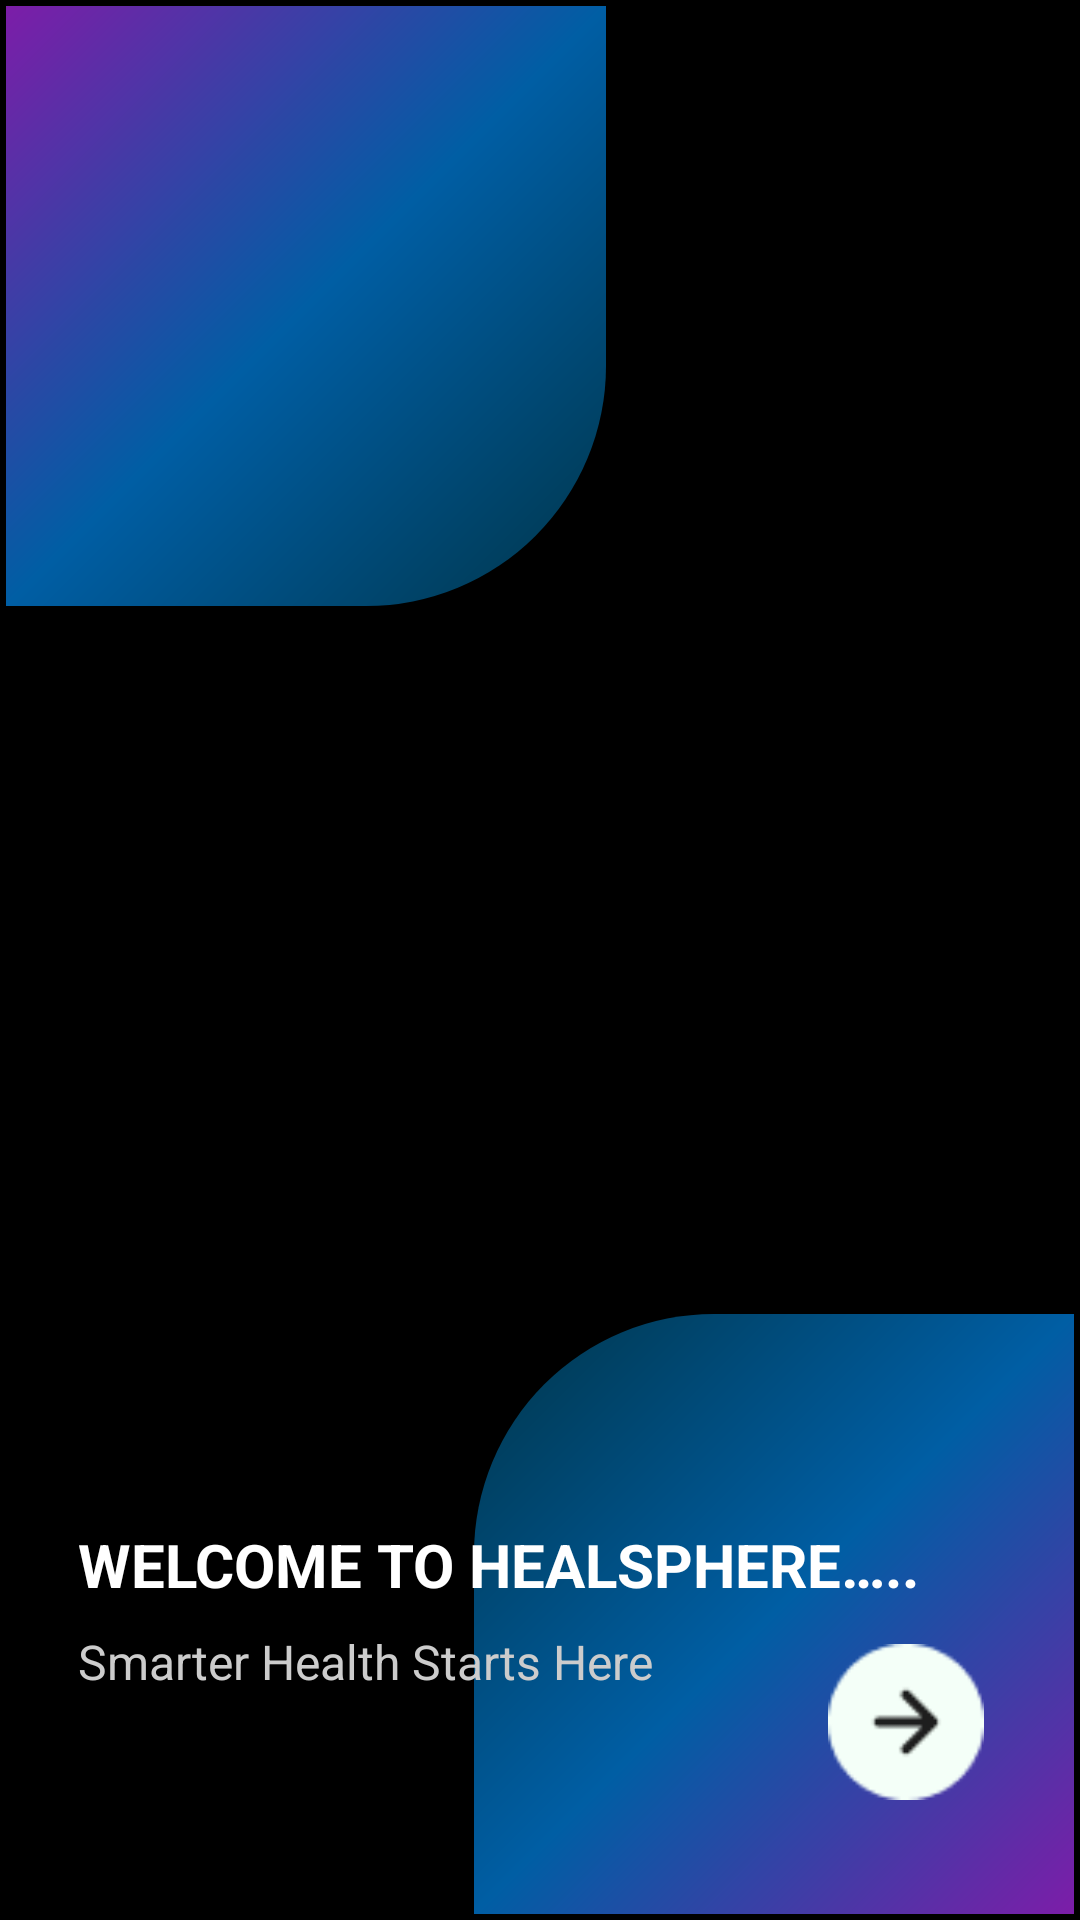

Named icons in this screenshot (1080*1920) and their centers, (x=x, y=y):
arrow: (x=906, y=1722)
